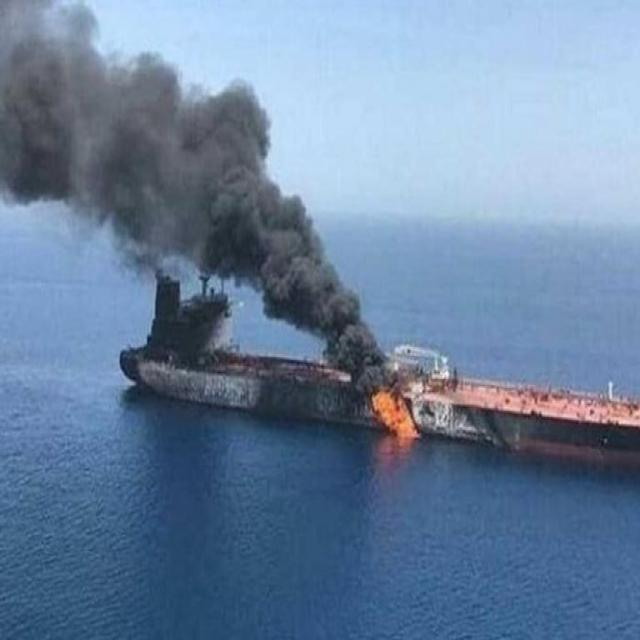cargoship: (124, 262, 398, 433)
